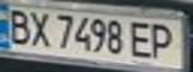4: (72, 14, 93, 52)
7: (51, 11, 75, 50)
8: (106, 17, 130, 56)
9: (87, 16, 109, 54)
B: (3, 6, 33, 45)
E: (124, 19, 157, 60)
P: (145, 20, 184, 62)
X: (24, 8, 54, 48)
